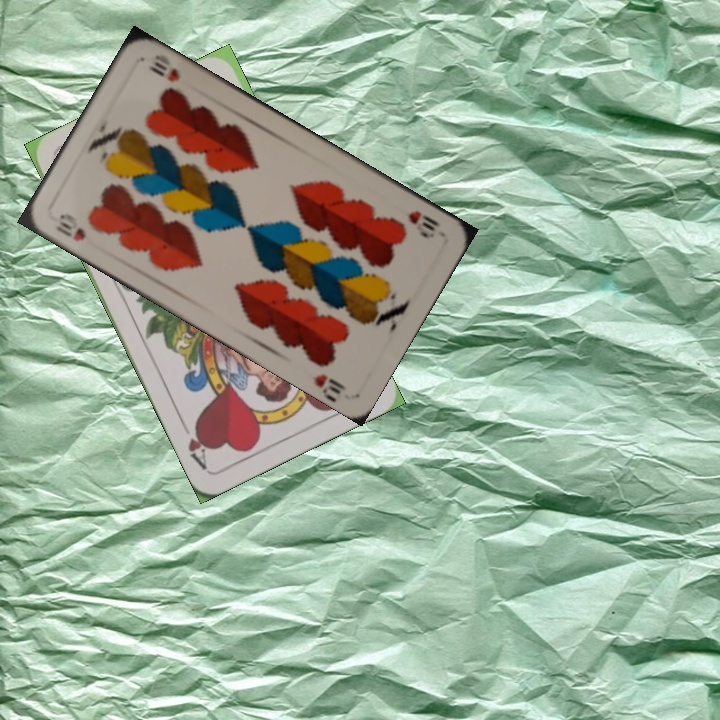H10: (404, 206, 442, 241), (51, 210, 89, 244)
